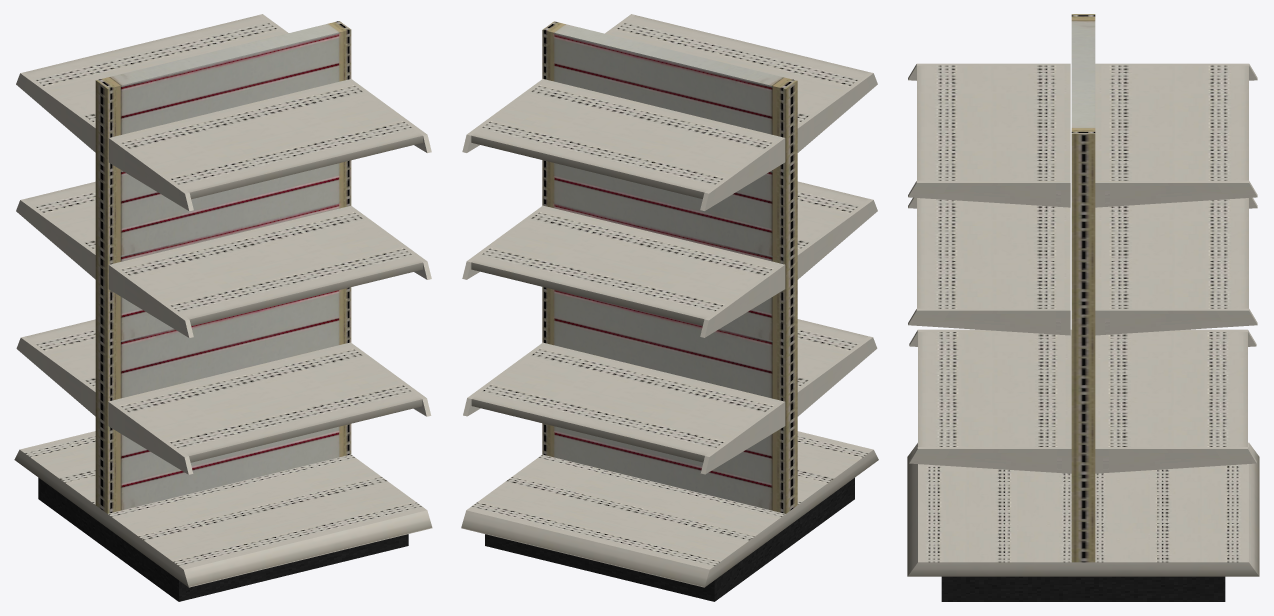
File: commerical_shelf.fbx
3 renders of one model, left to right at view 1: azimuth 30°, elevation 25°; view 2: azimuth 150°, elevation 25°; view 3: azimuth 270°, elevation 25°, orthographic.
Parts seen in each view (by area): view 1: Commerical_Shelf, Commerical_Shelf_Base, Commerical_Shelf_2_Shelf, Commerical_Shelf_2_Shelf.001, Commerical_Shelf_2_Shelf.002, Commerical_Shelf_2_Shelf.003, Commerical_Shelf_Bottom, Commerical_Shelf_2_Shelf.004, Commerical_Shelf_2_Shelf.005, Commerical_Shelf_2_Shelf_EndCapLeft.002, Commerical_Shelf_2_Shelf_EndCapLeft.001, Commerical_Shelf_2_Shelf_EndCapLeft (+6 smaller); view 2: Commerical_Shelf, Commerical_Shelf_Base, Commerical_Shelf_2_Shelf.004, Commerical_Shelf_2_Shelf.003, Commerical_Shelf_2_Shelf.005, Commerical_Shelf_2_Shelf.002, Commerical_Shelf_Bottom, Commerical_Shelf_2_Shelf.001, Commerical_Shelf_2_Shelf, Commerical_Shelf_2_Shelf_EndCapLeft.004, Commerical_Shelf_2_Shelf_EndCapLeft.003, Commerical_Shelf_2_Shelf_EndCapLeft.005 (+6 smaller); view 3: Commerical_Shelf_Base, Commerical_Shelf_2_Shelf.002, Commerical_Shelf_2_Shelf.003, Commerical_Shelf_2_Shelf, Commerical_Shelf_2_Shelf.005, Commerical_Shelf_2_Shelf.004, Commerical_Shelf_2_Shelf.001, Commerical_Shelf, Commerical_Shelf_Bottom, Commerical_Shelf_2_Shelf_EndCapRight.002, Commerical_Shelf_2_Shelf_EndCapRight.003, Commerical_Shelf_2_Shelf_EndCapRight.001 (+5 smaller).
Part boxes in pixels (x1=…): Commerical_Shelf: x1=95, y1=21, x2=351, y2=513; Commerical_Shelf_Base: x1=14, y1=431, x2=432, y2=587; Commerical_Shelf_2_Shelf: x1=113, y1=343, x2=422, y2=462; Commerical_Shelf_2_Shelf.001: x1=113, y1=207, x2=422, y2=325; Commerical_Shelf_2_Shelf.002: x1=114, y1=80, x2=422, y2=199; Commerical_Shelf_2_Shelf.003: x1=25, y1=15, x2=283, y2=123; Commerical_Shelf_Bottom: x1=38, y1=477, x2=408, y2=601; Commerical_Shelf_2_Shelf.004: x1=25, y1=181, x2=95, y2=250; Commerical_Shelf_2_Shelf.005: x1=25, y1=319, x2=95, y2=387; Commerical_Shelf_2_Shelf_EndCapLeft.002: x1=108, y1=137, x2=193, y2=211; Commerical_Shelf_2_Shelf_EndCapLeft.001: x1=108, y1=264, x2=193, y2=337; Commerical_Shelf_2_Shelf_EndCapLeft: x1=108, y1=400, x2=193, y2=474; Commerical_Shelf: x1=542, y1=21, x2=797, y2=513; Commerical_Shelf_Base: x1=461, y1=431, x2=878, y2=587; Commerical_Shelf_2_Shelf.004: x1=471, y1=206, x2=780, y2=325; Commerical_Shelf_2_Shelf.003: x1=471, y1=80, x2=780, y2=198; Commerical_Shelf_2_Shelf.005: x1=471, y1=343, x2=780, y2=462; Commerical_Shelf_2_Shelf.002: x1=609, y1=15, x2=868, y2=123; Commerical_Shelf_Bottom: x1=485, y1=478, x2=854, y2=601; Commerical_Shelf_2_Shelf.001: x1=797, y1=181, x2=868, y2=250; Commerical_Shelf_2_Shelf: x1=797, y1=319, x2=867, y2=387; Commerical_Shelf_2_Shelf_EndCapLeft.004: x1=700, y1=263, x2=785, y2=337; Commerical_Shelf_2_Shelf_EndCapLeft.003: x1=700, y1=137, x2=785, y2=210; Commerical_Shelf_2_Shelf_EndCapLeft.005: x1=700, y1=400, x2=785, y2=474; Commerical_Shelf_Base: x1=907, y1=442, x2=1259, y2=576; Commerical_Shelf_2_Shelf.002: x1=917, y1=65, x2=1070, y2=180; Commerical_Shelf_2_Shelf.003: x1=1095, y1=65, x2=1248, y2=180; Commerical_Shelf_2_Shelf: x1=918, y1=332, x2=1071, y2=446; Commerical_Shelf_2_Shelf.005: x1=1095, y1=332, x2=1247, y2=446; Commerical_Shelf_2_Shelf.004: x1=1095, y1=198, x2=1248, y2=308; Commerical_Shelf_2_Shelf.001: x1=917, y1=198, x2=1070, y2=308; Commerical_Shelf: x1=1071, y1=14, x2=1095, y2=562; Commerical_Shelf_Bottom: x1=941, y1=576, x2=1225, y2=601; Commerical_Shelf_2_Shelf_EndCapRight.002: x1=908, y1=180, x2=1070, y2=207; Commerical_Shelf_2_Shelf_EndCapRight.003: x1=1095, y1=180, x2=1257, y2=207; Commerical_Shelf_2_Shelf_EndCapRight.001: x1=908, y1=308, x2=1070, y2=335.
Size of the model in its own units: 91.44 by 168 by 113.
4 materials, 4 textured.
